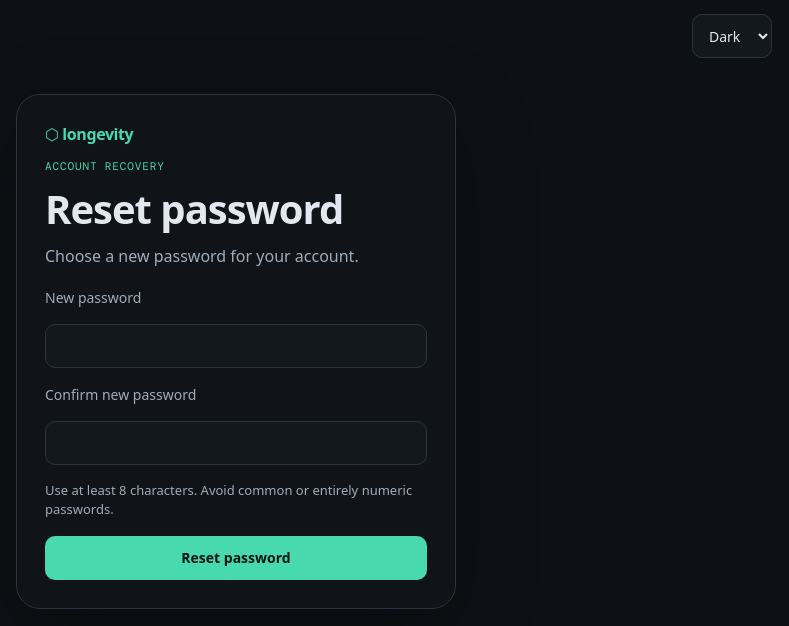
reset password route › submits the link credentials and new password
Type "new-strong-password-456" into the password field labelled "New password" at (236,346), box x1=45 y1=324 x2=427 y2=368
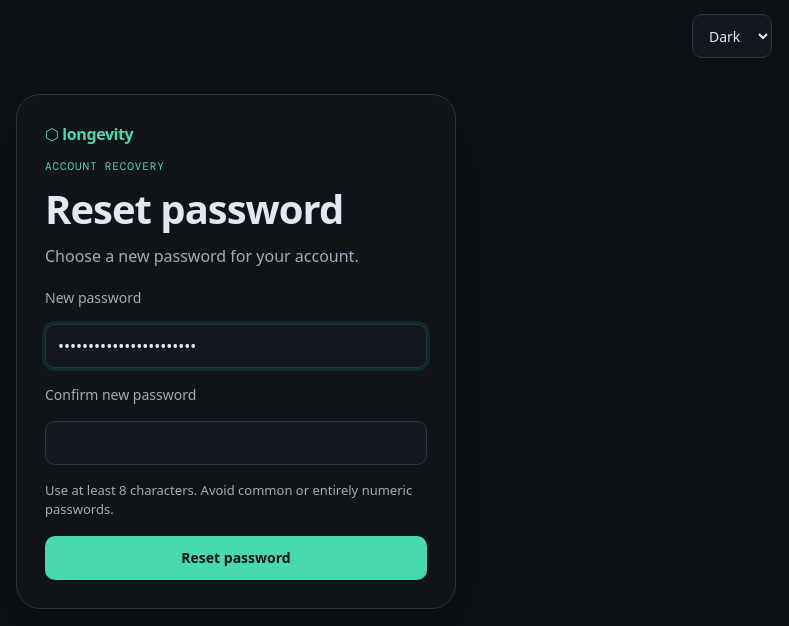
Type "new-strong-password-456" into the password field labelled "Confirm new password" at (236,443), box x1=45 y1=421 x2=427 y2=465
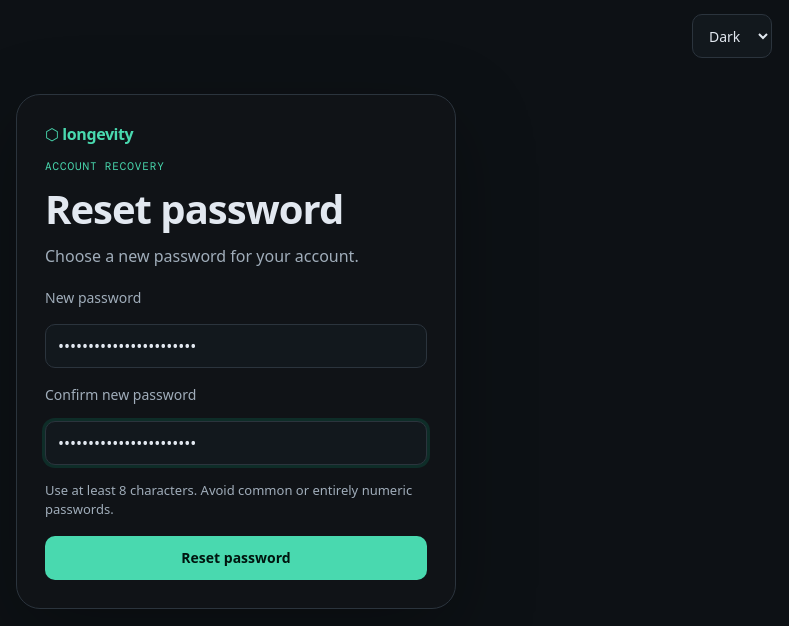
Click the button "Reset password" at (236,558), box x1=45 y1=536 x2=427 y2=580
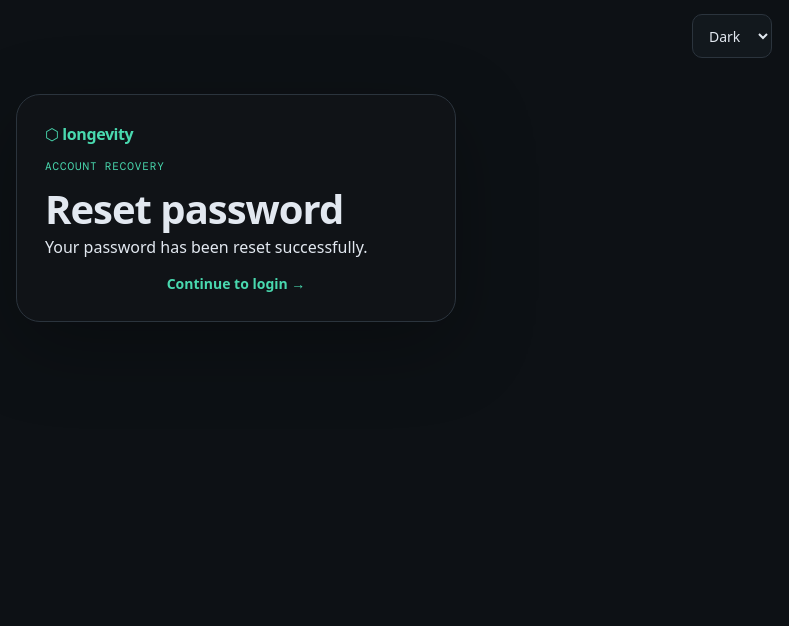
Expected: the text "Your password has been reset successfully." is shown, x1=45 y1=236 x2=368 y2=258
